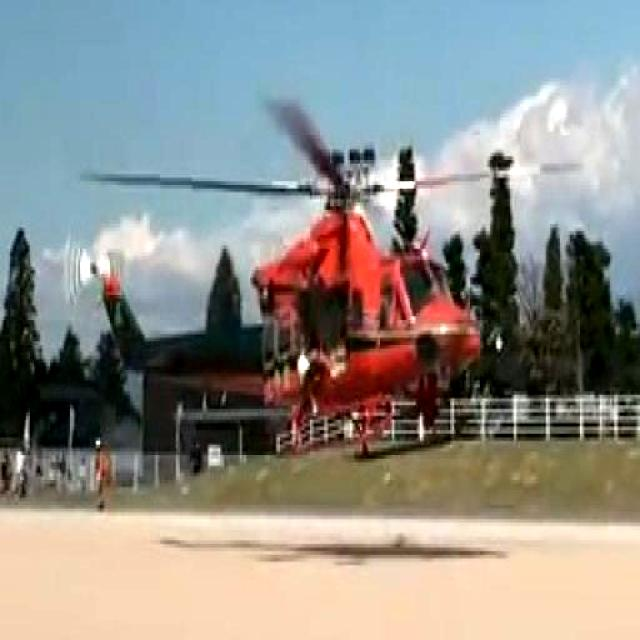drone: (61, 118, 495, 456)
